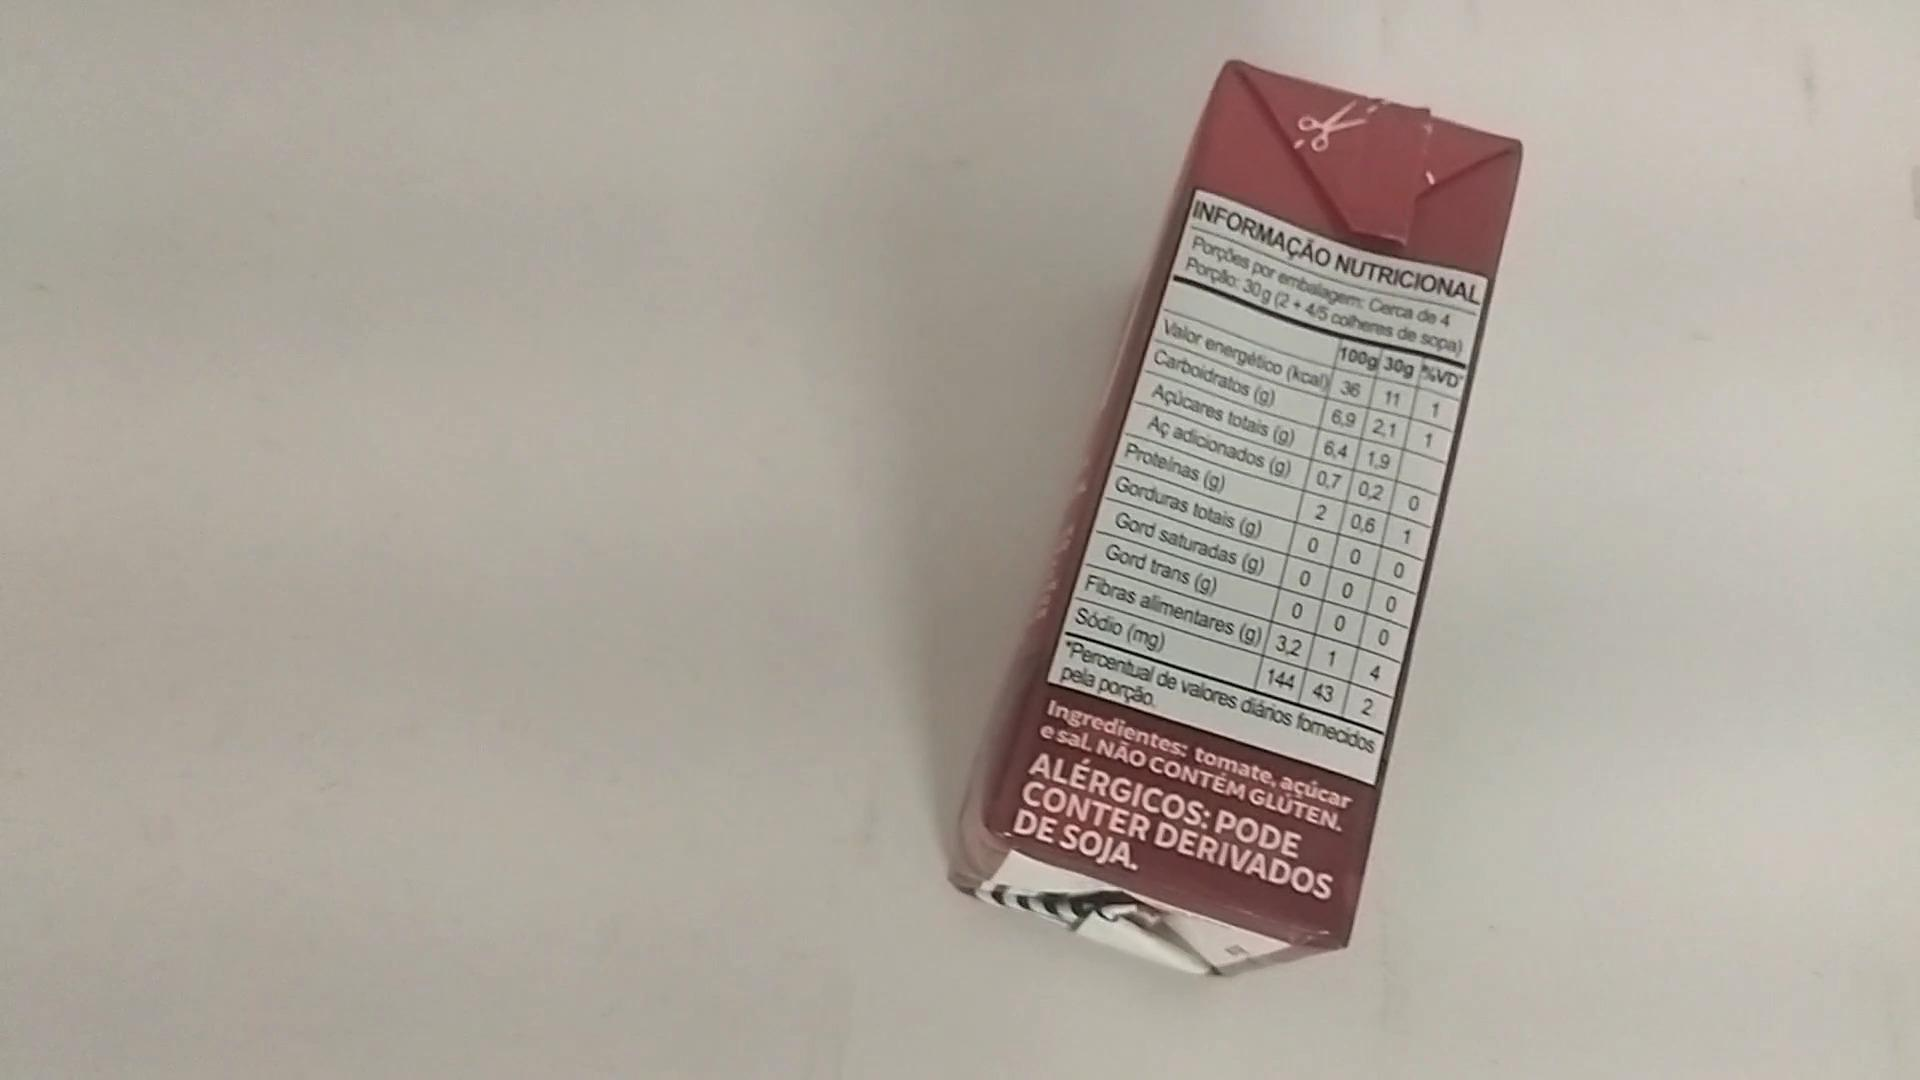tomate: (955, 57, 1520, 976)
